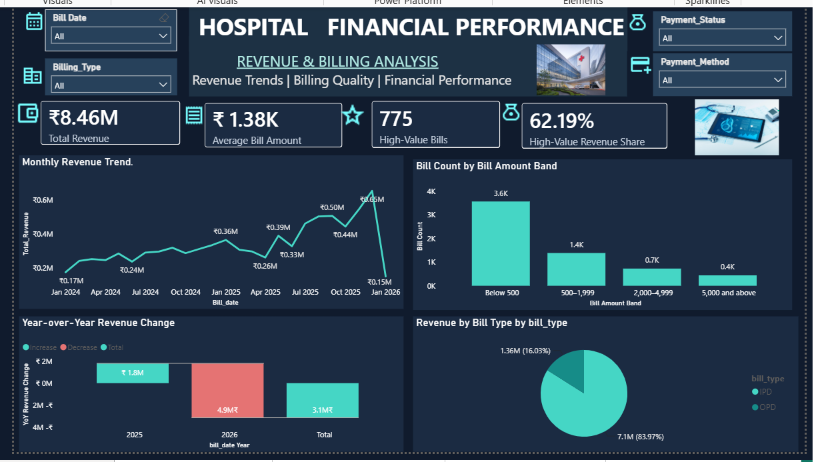

What the dashboard file says about the page in this screenshot:
{"tool":"powerbi","page":{"name":"Financial Performance","canvas":[1280,720],"ordinal":2},"visuals":[{"type":"textbox","box":[283.4,47,709.2,97.2],"z":0},{"type":"textbox","box":[282.7,0,710.1,70.7],"z":1000},{"type":"cardVisual","fields":{"Data":["billing_clean.Total Revenue"]},"box":[25.9,134.4,260.7,105.2],"z":2000},{"type":"cardVisual","fields":{"Data":["billing_clean.Average Bill Amount"]},"box":[291.5,137.6,257.5,106.9],"z":3000},{"type":"cardVisual","fields":{"Data":["billing_clean.High-Value Bills"]},"box":[561.9,134.4,242.9,110.1],"z":4000},{"type":"cardVisual","fields":{"Data":["billing_clean.High-Value Revenue Share"]},"box":[804.8,137.6,270.4,108.8],"z":5000},{"type":"image","box":[13.2,90.7,34.6,39.6],"z":6000},{"type":"slicer","fields":{"Values":["billing_clean.bill_date"]},"box":[50.2,3.2,213.7,68],"z":7000},{"type":"slicer","fields":{"Values":["billing_clean.payment_method"]},"box":[1034.7,74.5,225.1,69.6],"z":8000},{"type":"slicer","fields":{"Values":["billing_clean.payment_status"]},"box":[1034.7,6.5,225.1,64.8],"z":9000},{"type":"image","box":[8.2,4.9,49.5,34.6],"z":10000},{"type":"image","box":[484.1,152.2,127.9,43.7],"z":11000},{"type":"image","box":[0,150.6,44.5,41.2],"z":12000},{"type":"image","box":[263.9,157.1,55.1,35.6],"z":13000},{"type":"image","box":[786.9,149,36.2,41.2],"z":14000},{"type":"pieChart","fields":{"Category":["billing_clean.bill_type"],"Y":["billing_clean.Revenue by Bill Type"]},"box":[645.5,500.6,624.1,219],"z":15000},{"type":"image","box":[992.9,0,34.6,47.8],"z":16000},{"type":"image","box":[992.9,74.1,42.8,36.2],"z":17000},{"type":"clusteredColumnChart","fields":{"Y":["billing_clean.Bill Count"],"Category":["billing_clean.Bill Amount Band"]},"box":[645.5,245.4,614.2,243.7],"z":18000},{"type":"slicer","fields":{"Values":["billing_clean.bill_type"]},"box":[50,82.7,213.7,59.9],"z":19000},{"type":"waterfallChart","title":"Year-over-Year Revenue Change","fields":{"Category":["billing_clean.bill_date.Variation.Date Hierarchy.Year","billing_clean.bill_date.Variation.Date Hierarchy.Month"],"Y":["billing_clean.YoY Revenue Change"]},"box":[8.2,500.6,622.4,219],"z":20000},{"type":"lineChart","title":"Monthly Revenue Trend.","fields":{"Category":["billing_clean.bill_date.Variation.Date Hierarchy.Year","billing_clean.bill_date.Variation.Date Hierarchy.Month"],"Y":["billing_clean.Total Revenue"]},"box":[8.2,240.4,622.4,248.6],"z":21000},{"type":"image","box":[775.6,59.9,252.6,82.6],"z":21001},{"type":"image","box":[1060.6,149,220.2,90.7],"z":21003}]}

Visuals, with their boxes on the page's 1280x720 design canvas (x1, y1, x2, y2). These are canvas units, not pixel positions in the 813x462 screenshot, which may show the page scaled, cropped or inside an application window:
textbox: box(283, 47, 993, 144)
textbox: box(283, 0, 993, 71)
cardVisual - billing_clean.Total Revenue: box(26, 134, 287, 240)
cardVisual - billing_clean.Average Bill Amount: box(292, 138, 549, 244)
cardVisual - billing_clean.High-Value Bills: box(562, 134, 805, 244)
cardVisual - billing_clean.High-Value Revenue Share: box(805, 138, 1075, 246)
image: box(13, 91, 48, 130)
slicer - billing_clean.bill_date: box(50, 3, 264, 71)
slicer - billing_clean.payment_method: box(1035, 74, 1260, 144)
slicer - billing_clean.payment_status: box(1035, 6, 1260, 71)
image: box(8, 5, 58, 40)
image: box(484, 152, 612, 196)
image: box(0, 151, 44, 192)
image: box(264, 157, 319, 193)
image: box(787, 149, 823, 190)
pieChart - billing_clean.bill_type x billing_clean.Revenue by Bill Type: box(646, 501, 1270, 720)
image: box(993, 0, 1028, 48)
image: box(993, 74, 1036, 110)
clusteredColumnChart - billing_clean.Bill Count x billing_clean.Bill Amount Band: box(646, 245, 1260, 489)
slicer - billing_clean.bill_type: box(50, 83, 264, 143)
"Year-over-Year Revenue Change" waterfallChart: box(8, 501, 631, 720)
"Monthly Revenue Trend." lineChart: box(8, 240, 631, 489)
image: box(776, 60, 1028, 142)
image: box(1061, 149, 1281, 240)
